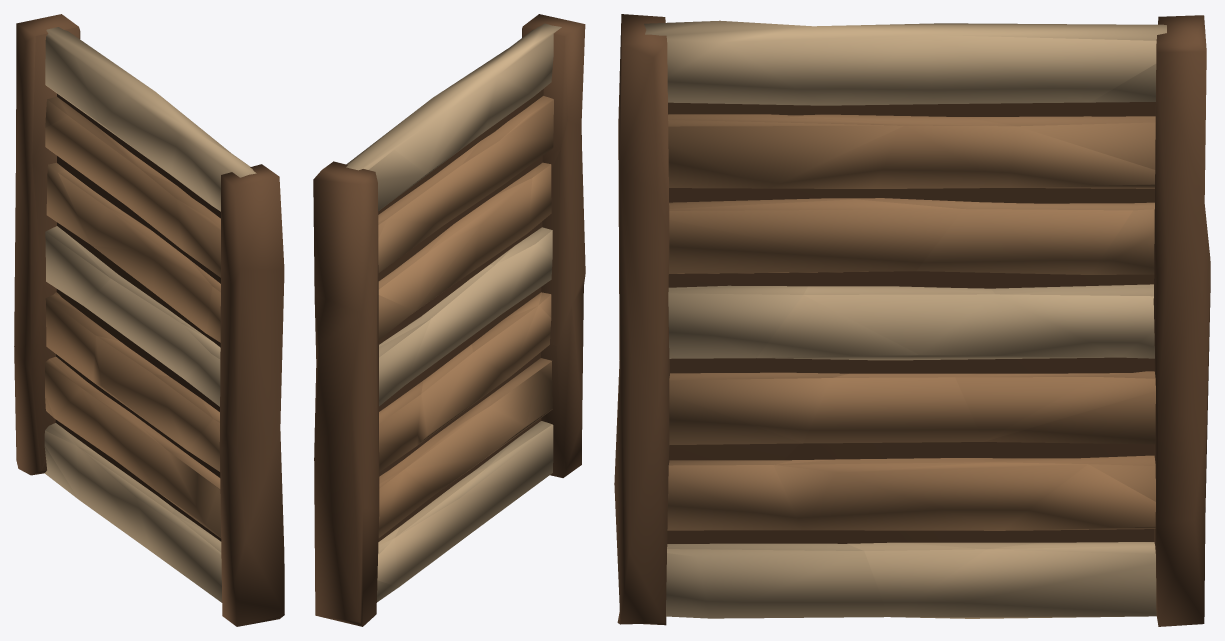
File: canopy_crate_wall_lod2.glb
The picture shows the model from 3 angles, left to right: view 1: azimuth 30°, elevation 25°; view 2: azimuth 150°, elevation 25°; view 3: azimuth 270°, elevation 25°; orthographic projection. The views are drawn at different scales.
Parts seen in each view (by area): view 1: canopy_crate_wall.001; view 2: canopy_crate_wall.001; view 3: canopy_crate_wall.001.
Part boxes in pixels (x1,y1,x2,y2): canopy_crate_wall.001: [14, 14, 284, 626]; canopy_crate_wall.001: [313, 14, 585, 626]; canopy_crate_wall.001: [614, 14, 1210, 626].
Bounding box in the file's own units: 2.91 × 21.93 × 20.18.
